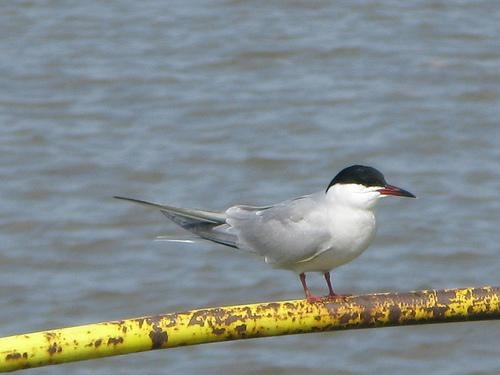bird: (125, 161, 423, 301)
